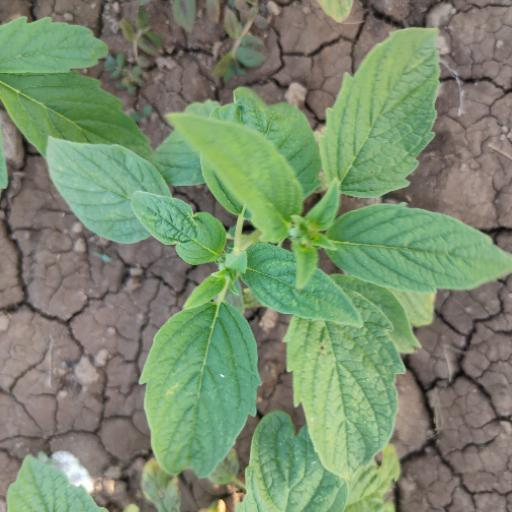crop: (27, 25, 510, 478)
